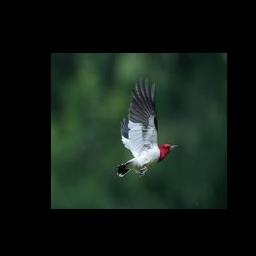Woodpecker: (114, 77, 178, 177)
